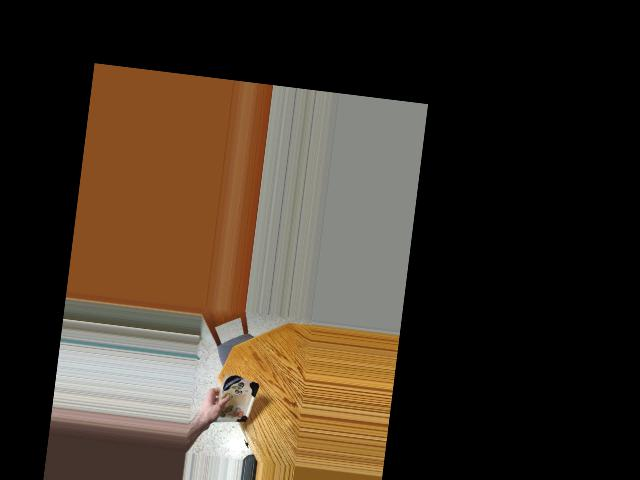cheese: (211, 371, 257, 434)
